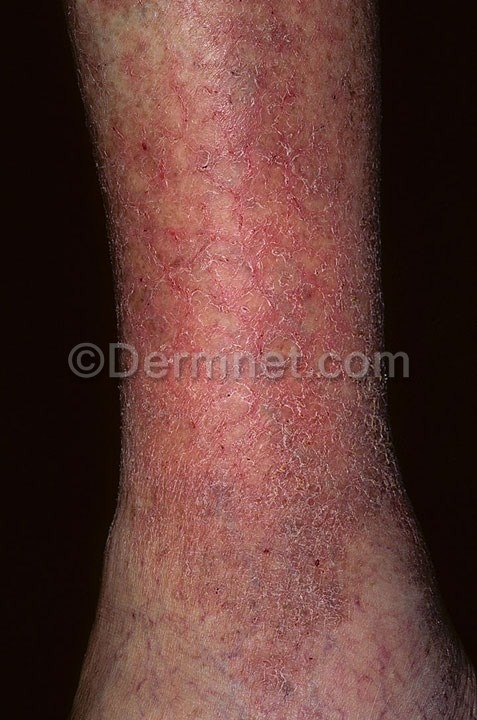Eczema: (79, 5, 382, 709), (394, 539, 433, 720)
